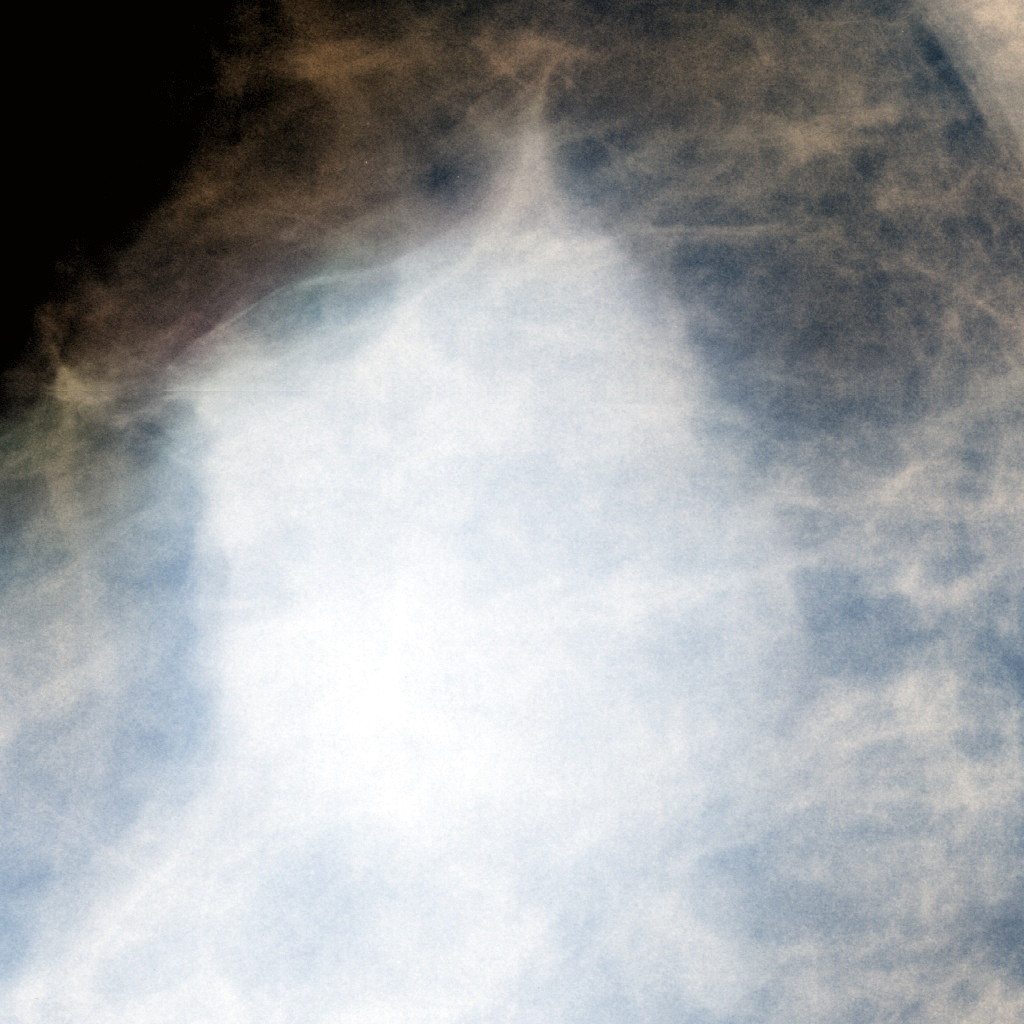tumor: (233, 216, 791, 808)
